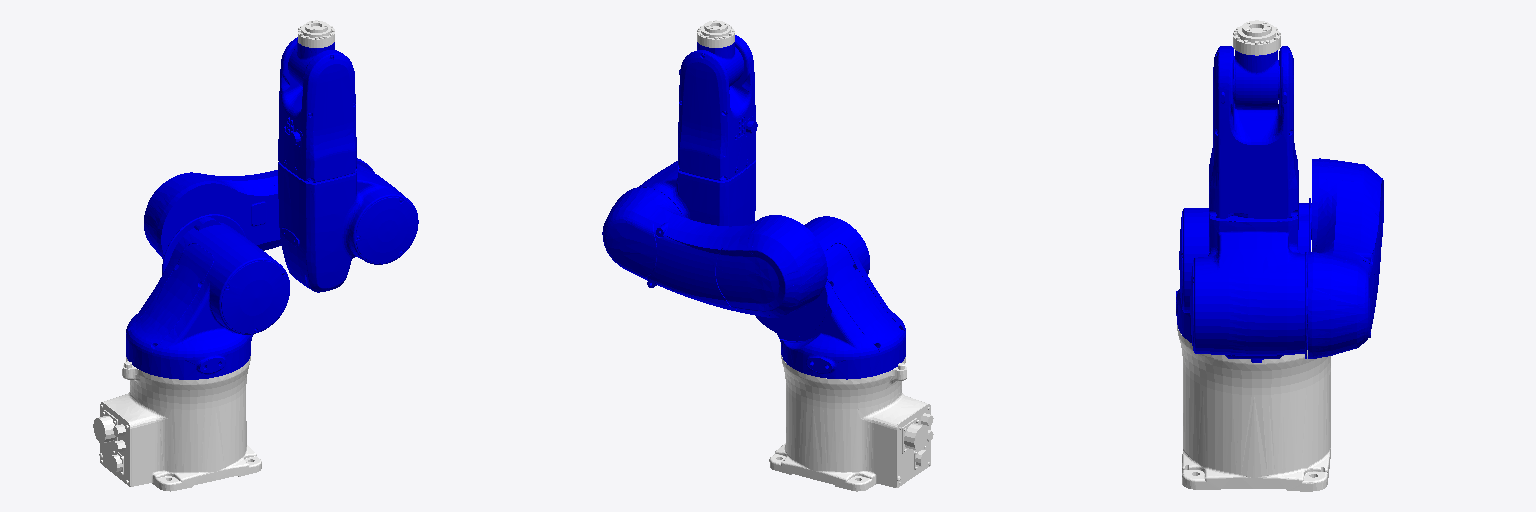
robot.urdf — ADEPT_VIPER_S650:
<robot name="ADEPT_VIPER_S650">
	<link name="Adept_Viper_s650_Link1">
		<visual>
			<origin xyz="0 0 0" rpy="0 0 0"/>
			<geometry>
				<mesh filename="package://adept_common/meshes/visual/STL/binary/Adept_Viper_650_Link1.stl"/>
			</geometry>
			<material name="White">
				<color rgba="255 255 255 1.0"/>
			</material>
		</visual>
		<collision>
			<origin xyz="0 0 0" rpy="0 0 0"/>
			<geometry>
				<mesh filename="package://adept_common/meshes/collision/STL/binary/Adept_Viper_650_Link1.stl"/>
			</geometry>
			<material name="Blue">
				<color rgba="0 0 255 1.0"/>
			</material>
		</collision>
	</link>
	<link name="Adept_Viper_s650_Link2">
		<visual>
			<origin xyz="0 0 0" rpy="0 0 0"/>
			<geometry>
				<mesh filename="package://adept_common/meshes/visual/STL/binary/Adept_Viper_650_Link2.stl"/>
			</geometry>
			<material name="Red">
				<color rgba="0 0 255 1.0"/>
			</material>
		</visual>
		<collision>
			<origin xyz="0 0 0" rpy="0 0 0"/>
			<geometry>
				<mesh filename="package://adept_common/meshes/collision/STL/binary/Adept_Viper_650_Link2.stl"/>
			</geometry>
			<material name="Green">
				<color rgba="0 0 255 1.0"/>
			</material>
		</collision>
	</link>	
	<link name="Adept_Viper_s650_Link3">
		<visual>
			<origin xyz="0 0 0" rpy="0 1.5714 0"/>
			<geometry>
				<mesh filename="package://adept_common/meshes/visual/STL/binary/Adept_Viper_650_Link3.stl"/>
			</geometry>
			<material name="White">
				<color rgba="0 0 255 1.0"/>
			</material>
		</visual>
		<collision>
			<origin xyz="0 0 0" rpy="0 1.5714 0"/>
			<geometry>
				<mesh filename="package://adept_common/meshes/collision/STL/binary/Adept_Viper_650_Link3.stl"/>
			</geometry>
			<material name="Blue">
				<color rgba="0 0 255 1.0"/>
			</material>
		</collision>
	</link>
	<link name="Adept_Viper_s650_Link4">
		<visual>
			<origin xyz="0 0 0" rpy="0 -1.5714 0"/>
			<geometry>
				<mesh filename="package://adept_common/meshes/visual/STL/binary/Adept_Viper_650_Link4.stl"/>
			</geometry>
			<material name="Red">
				<color rgba="0 0 255 1.0"/>
			</material>
		</visual>
		<collision>
			<origin xyz="0 0 0" rpy="0 -1.5714 0"/>
			<geometry>
				<mesh filename="package://adept_common/meshes/collision/STL/binary/Adept_Viper_650_Link4.stl"/>
			</geometry>
			<material name="Blue">
				<color rgba="0 0 255 1.0"/>
			</material>
		</collision>
	</link>
	<link name="Adept_Viper_s650_Link5">
		<visual>
			<origin xyz="0 0 0" rpy="0 -1.5714 0"/>
			<geometry>
				<mesh filename="package://adept_common/meshes/visual/STL/binary/Adept_Viper_650_Link5.stl"/>
			</geometry>
			<material name="Blue">
				<color rgba="0 0 255 1.0"/>
			</material>
		</visual>
		<collision>
			<origin xyz="0 0 0" rpy="0 -1.5714 0"/>
			<geometry>
				<mesh filename="package://adept_common/meshes/collision/STL/binary/Adept_Viper_650_Link5.stl"/>
			</geometry>
			<material name="Blue">
				<color rgba="0 0 255 1.0"/>
			</material>
		</collision>
	</link>
	<link name="Adept_Viper_s650_Link6">
		<visual>
			<origin xyz="0 0 0" rpy="0 -1.5714 0"/>
			<geometry>
				<mesh filename="package://adept_common/meshes/visual/STL/binary/Adept_Viper_650_Link6.stl"/>
			</geometry>
			<material name="Blue">
				<color rgba="0 0 255 1.0"/>
			</material>
		</visual>
		<collision>
			<origin xyz="0 0 0" rpy="0 -1.5714 0"/>
			<geometry>
				<mesh filename="package://adept_common/meshes/collision/STL/binary/Adept_Viper_650_Link6.stl"/>
			</geometry>
			<material name="Blue">
				<color rgba="0 0 255 1.0"/>
			</material>
		</collision>
	</link>
	
	<link name="Adept_Viper_650_Interface_Plate">
		<visual>
			<origin xyz="0 0 0" rpy="0 -1.5714 0"/>
			<geometry>
				<mesh filename="package://adept_common/meshes/visual/STL/binary/Adept_Viper_650_Interface_Plate.stl"/>
			</geometry>
			<material name="Gray">
				<color rgba="100 100 100 1.0"/>
			</material>
		</visual>
		<collision>
			<origin xyz="0 0 0" rpy="0 -1.5714 0"/>
			<geometry>
				<mesh filename="package://adept_common/meshes/collision/STL/binary/Adept_Viper_650_Interface_Plate.stl"/>
			</geometry>
			<material name="Gray">
				<color rgba="100 100 100 1.0"/>
			</material>
		</collision>
	</link>
	<joint name="joint_1" type="revolute">
		<origin xyz="0 0 0.203"/>
		<parent link="Adept_Viper_s650_Link1"/>
		<child link="Adept_Viper_s650_Link2"/>
		<axis xyz="0 0 1"/>
		<limit effort="100" velocity="5.72468" lower="-2.9670" upper="2.9670"/>
	</joint>
	<joint name="joint_2" type="revolute">
		<origin xyz="0.074 0 0.18795"/>
		<parent link="Adept_Viper_s650_Link2"/>
		<child link="Adept_Viper_s650_Link3"/>
		<axis xyz="0 1 0"/>
		<limit effort="100" velocity="5.235" lower="-3.31613" upper="0.7854"/>
	</joint>
	<joint name="joint_3" type="revolute">
		<origin xyz="0.270 0 0"/>
		<parent link="Adept_Viper_s650_Link3"/>
		<child link="Adept_Viper_s650_Link4"/>
		<axis xyz="0 1 0"/>
		<limit effort="100" velocity="6.544" lower="-0.50615" upper="4.468053"/>
	</joint>
	<joint name="joint_4" type="revolute">
		<origin xyz="-0.090 0 0.295"/>
		<parent link="Adept_Viper_s650_Link4"/>
		<child link="Adept_Viper_s650_Link5"/>
		<axis xyz="0 0 1"/>
		<limit effort="100" velocity="6.544" lower="-3.31613" upper="3.316133"/>
	</joint>
	<joint name="joint_5" type="revolute">
		<origin xyz="0 0 0"/>
		<parent link="Adept_Viper_s650_Link5"/>
		<child link="Adept_Viper_s650_Link6"/>
		<axis xyz="0 1 0"/>
		<limit effort="100" velocity="6.544" lower="-2.0944" upper="2.0944"/>
	</joint>	
	<joint name="joint_6" type="revolute">
		<origin xyz="0.0 0 0.08"/>
		<parent link="Adept_Viper_s650_Link6"/>
		<child link="Adept_Viper_650_Interface_Plate"/>
		<axis xyz="0 0 1"/>
		<limit effort="100" velocity="10.47" lower="-3.1416" upper="3.1416"/>
	</joint>
</robot>

--- Facts derived from the render (not from the file) ---
3 views of the same robot in one strip: view 1: azimuth 30°, elevation 25°; view 2: azimuth 150°, elevation 25°; view 3: azimuth 270°, elevation 25° (orthographic).
Robot: ADEPT_VIPER_S650 — 7 links, 6 joints (6 revolute); root link Adept_Viper_s650_Link1; default pose: all joints at 0.
Links seen in each view (by area): view 1: Adept_Viper_s650_Link2, Adept_Viper_s650_Link1, Adept_Viper_s650_Link4, Adept_Viper_s650_Link5, Adept_Viper_s650_Link3, Adept_Viper_650_Interface_Plate, Adept_Viper_s650_Link6; view 2: Adept_Viper_s650_Link3, Adept_Viper_s650_Link1, Adept_Viper_s650_Link2, Adept_Viper_s650_Link5, Adept_Viper_s650_Link4, Adept_Viper_650_Interface_Plate, Adept_Viper_s650_Link6; view 3: Adept_Viper_s650_Link1, Adept_Viper_s650_Link4, Adept_Viper_s650_Link3, Adept_Viper_s650_Link5, Adept_Viper_s650_Link2, Adept_Viper_s650_Link6, Adept_Viper_650_Interface_Plate.
Link boxes in pixels (left/top/right/bottom): Adept_Viper_s650_Link2: left=126, top=214, right=289, bottom=379; Adept_Viper_s650_Link1: left=93, top=356, right=261, bottom=491; Adept_Viper_s650_Link4: left=278, top=159, right=418, bottom=292; Adept_Viper_s650_Link5: left=278, top=37, right=356, bottom=182; Adept_Viper_s650_Link3: left=144, top=158, right=363, bottom=258; Adept_Viper_650_Interface_Plate: left=298, top=20, right=334, bottom=47; Adept_Viper_s650_Link6: left=288, top=40, right=334, bottom=86; Adept_Viper_s650_Link3: left=602, top=187, right=827, bottom=317; Adept_Viper_s650_Link1: left=769, top=355, right=933, bottom=491; Adept_Viper_s650_Link2: left=756, top=216, right=905, bottom=379; Adept_Viper_s650_Link5: left=678, top=35, right=757, bottom=180; Adept_Viper_s650_Link4: left=627, top=160, right=755, bottom=226; Adept_Viper_650_Interface_Plate: left=697, top=20, right=734, bottom=47; Adept_Viper_s650_Link6: left=697, top=42, right=743, bottom=86; Adept_Viper_s650_Link1: left=1177, top=325, right=1330, bottom=491; Adept_Viper_s650_Link4: left=1190, top=211, right=1306, bottom=359; Adept_Viper_s650_Link3: left=1299, top=158, right=1383, bottom=358; Adept_Viper_s650_Link5: left=1209, top=46, right=1298, bottom=218; Adept_Viper_s650_Link2: left=1176, top=198, right=1310, bottom=362; Adept_Viper_s650_Link6: left=1235, top=50, right=1277, bottom=109; Adept_Viper_650_Interface_Plate: left=1233, top=20, right=1280, bottom=55.
Bounding box of the posed robot: 0.5825 × 0.283 × 0.766 m (x, y, z).
Meshes: 7 distinct files referenced, 7 mesh visuals loaded (7 binary STL).